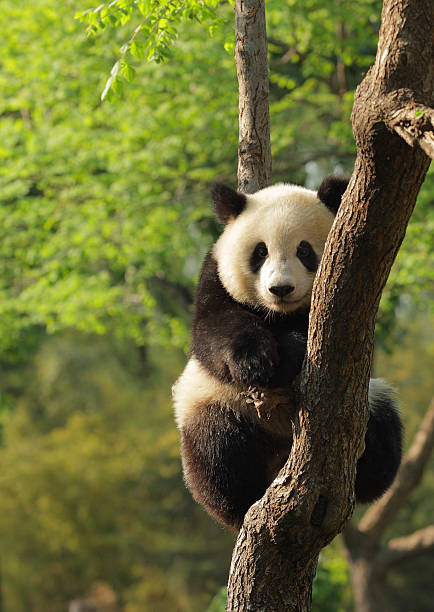panda: (201, 158, 344, 331)
